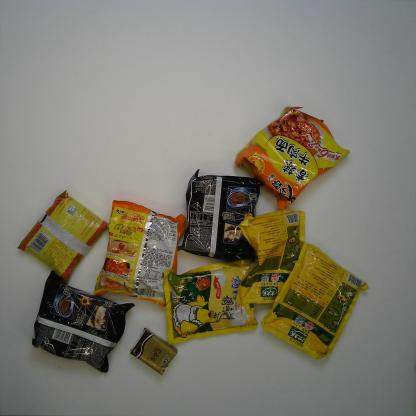Instant Noodles: (235, 105, 351, 212), (31, 270, 136, 374), (93, 198, 187, 306), (177, 168, 264, 263)
Seasoner: (260, 241, 370, 361), (16, 188, 110, 286), (162, 258, 258, 346), (236, 209, 306, 306)
Tissue: (129, 326, 178, 376)
